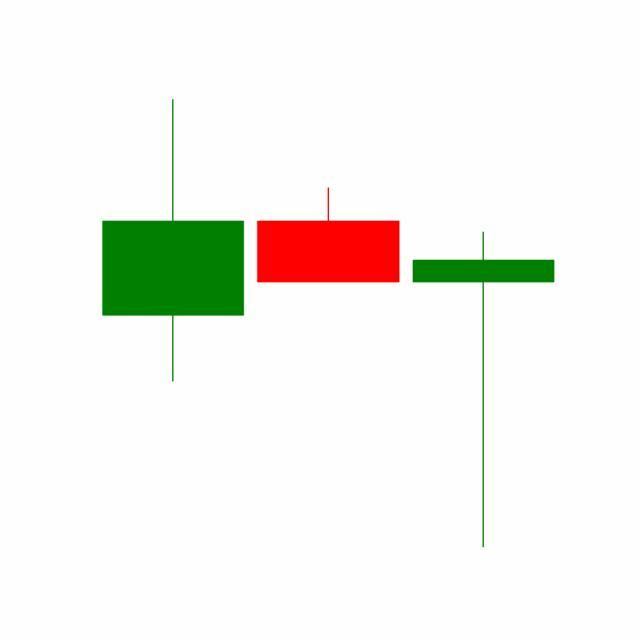Spinning Top: (406, 229, 562, 552)
